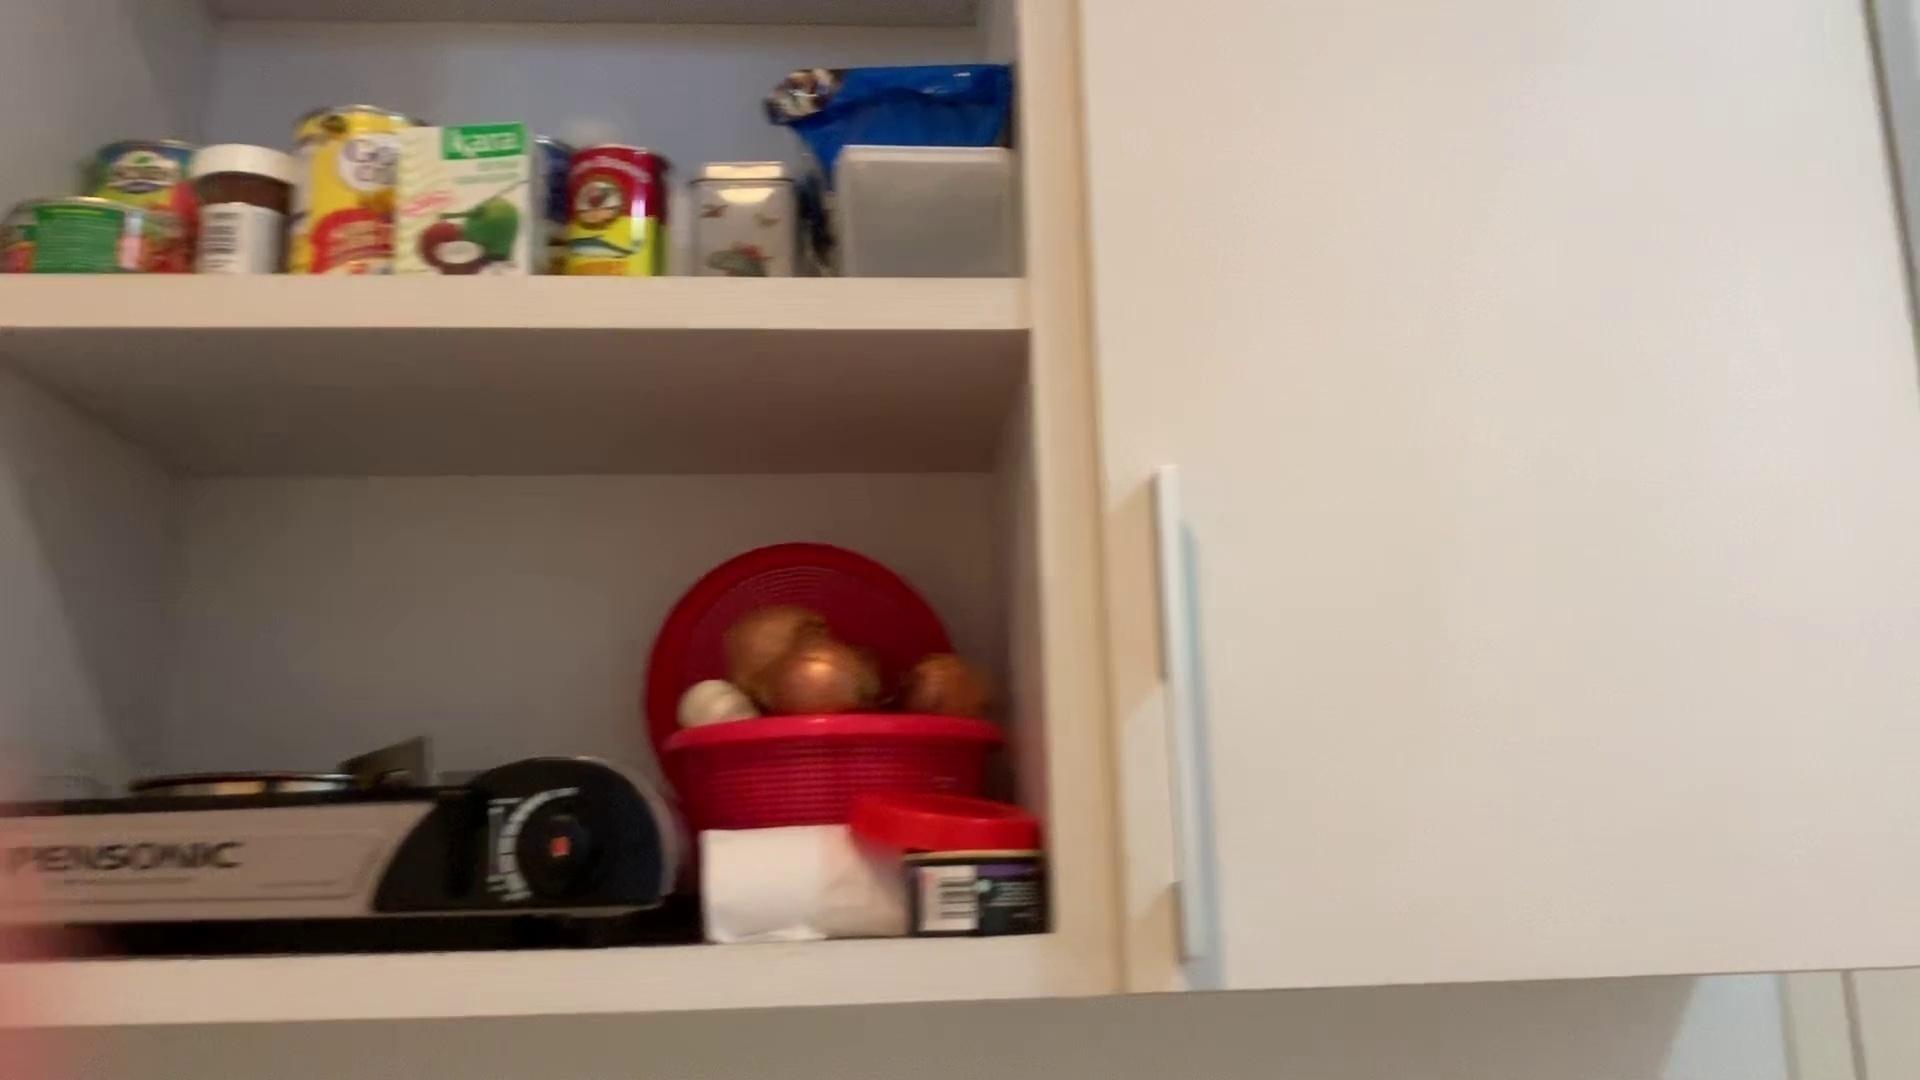cabinet_door: (1113, 0, 1902, 975)
handle: (1125, 464, 1230, 981)
